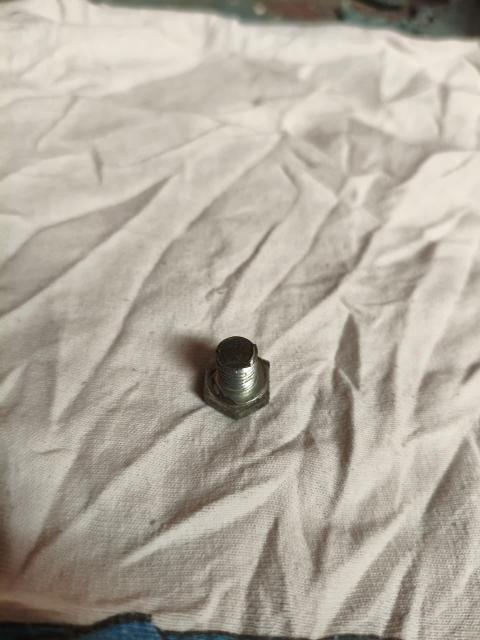Metal: (205, 322, 267, 420)
